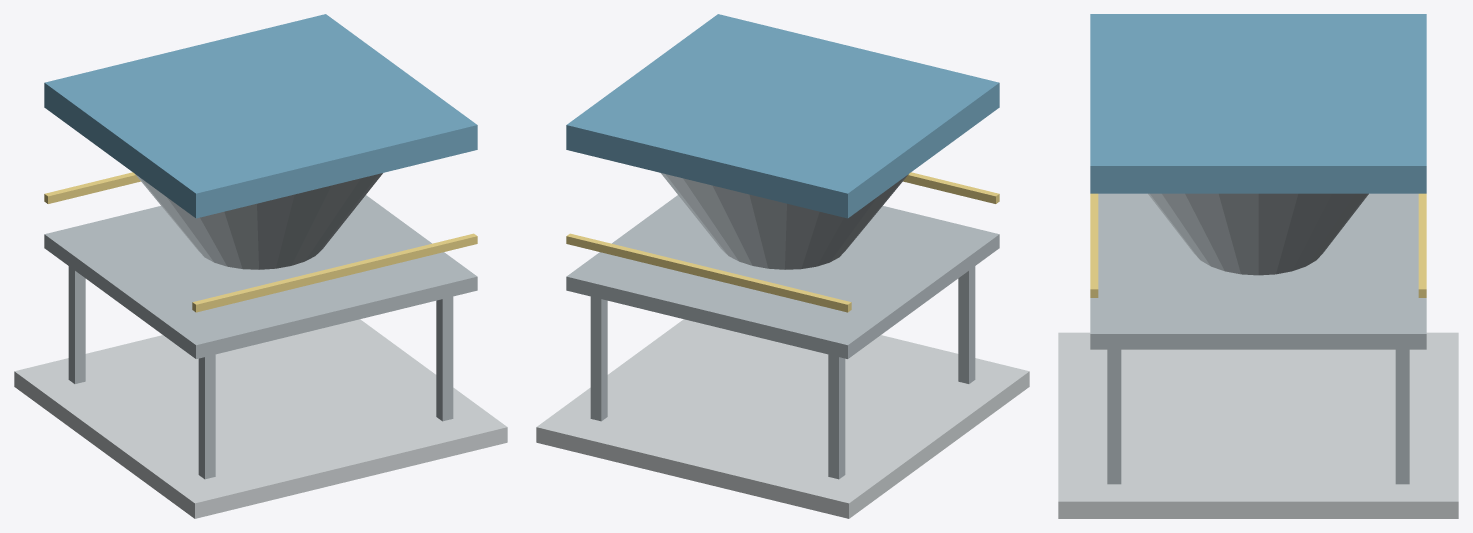
The model's file is hopper.glb.
3 renders of one model, left to right at view 1: azimuth 30°, elevation 25°; view 2: azimuth 150°, elevation 25°; view 3: azimuth 270°, elevation 25°, orthographic. The views are drawn at different scales.
Visible parts, largest first — view 1: hopper; view 2: hopper; view 3: hopper.
Part boxes in pixels (box(x1,y1,x2,y2)): hopper: box(14, 14, 507, 518); hopper: box(536, 14, 1029, 518); hopper: box(1058, 14, 1458, 518).
Size of the model in its own units: 8 by 7.6 by 8.
